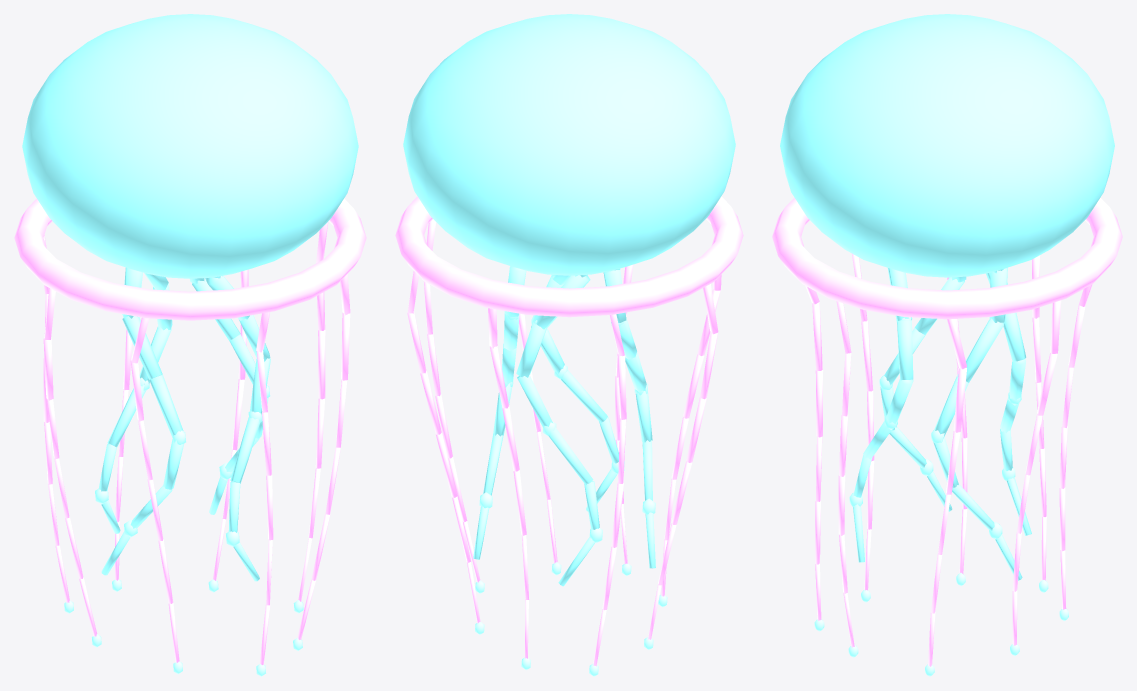
Rendered from jellyfish.glb.
3 views of the same model, side by side, from view 1: azimuth 30°, elevation 25°; view 2: azimuth 150°, elevation 25°; view 3: azimuth 270°, elevation 25° (orthographic).
Visible parts, largest first — view 1: jellyfish; view 2: jellyfish; view 3: jellyfish.
Boxes of the visible parts, x1=… form: jellyfish: x1=14, y1=14, x2=366, y2=676; jellyfish: x1=395, y1=14, x2=743, y2=676; jellyfish: x1=772, y1=14, x2=1122, y2=676.
Size of the model in its own units: 1.57 by 2.94 by 1.57.
